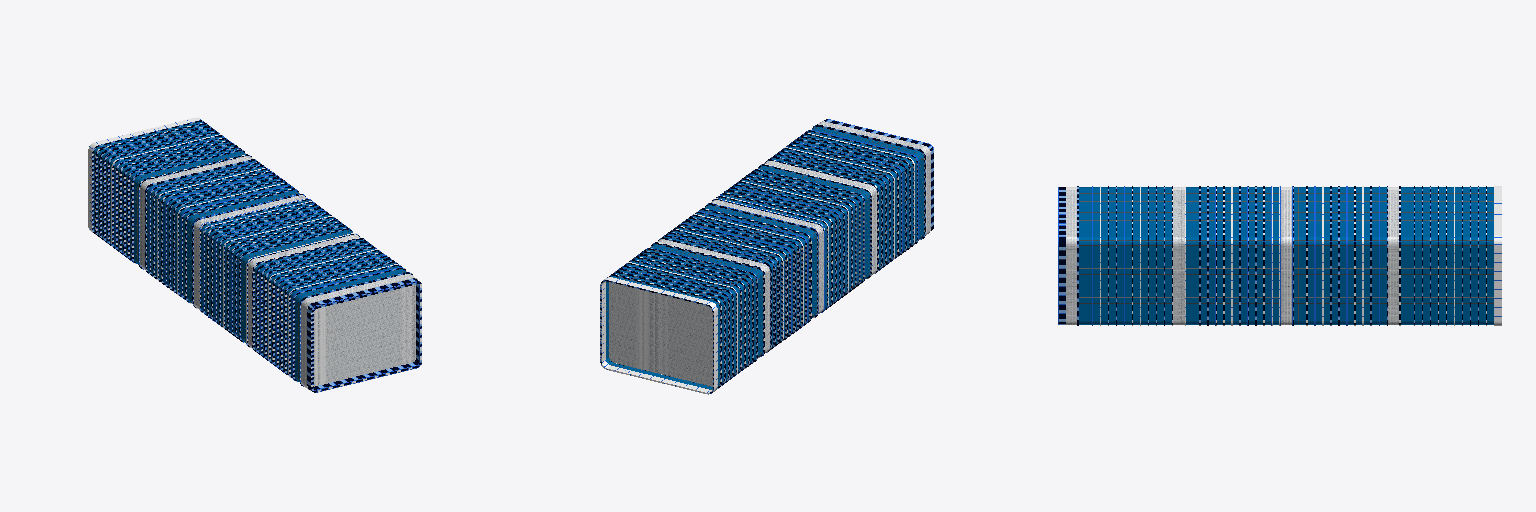
3 views of the same model, side by side, from view 1: azimuth 30°, elevation 25°; view 2: azimuth 150°, elevation 25°; view 3: azimuth 270°, elevation 25° (orthographic).
Parts seen in each view (by area): view 1: glass_01, wall_03, slab_01, wall_02, wall_1_01, wall_01, frame_01; view 2: glass_01, wall_03, slab_01, wall_02, wall_1_01, wall_01, frame_01; view 3: glass_01, wall_02, wall_1_01, frame_01, wall_01.
Boxes of the visible parts, box(x1,y1,x2,y2) form: glass_01: box(94, 122, 405, 381); wall_03: box(92, 120, 421, 392); slab_01: box(314, 285, 415, 386); wall_02: box(95, 123, 409, 385); wall_1_01: box(140, 156, 414, 388); wall_01: box(88, 117, 419, 390); frame_01: box(93, 123, 404, 379); glass_01: box(606, 127, 923, 389); wall_03: box(600, 125, 924, 394); slab_01: box(609, 282, 712, 386); wall_02: box(611, 124, 925, 386); wall_1_01: box(658, 121, 930, 352); wall_01: box(602, 119, 933, 392); frame_01: box(606, 127, 923, 389); glass_01: box(1079, 187, 1493, 324); wall_02: box(1077, 186, 1486, 325); wall_1_01: box(1066, 187, 1398, 324); frame_01: box(1079, 187, 1493, 324); wall_01: box(1058, 186, 1501, 325).
Size of the model in its own units: 1968 by 1488 by 6648.
4 materials, 2 textured.